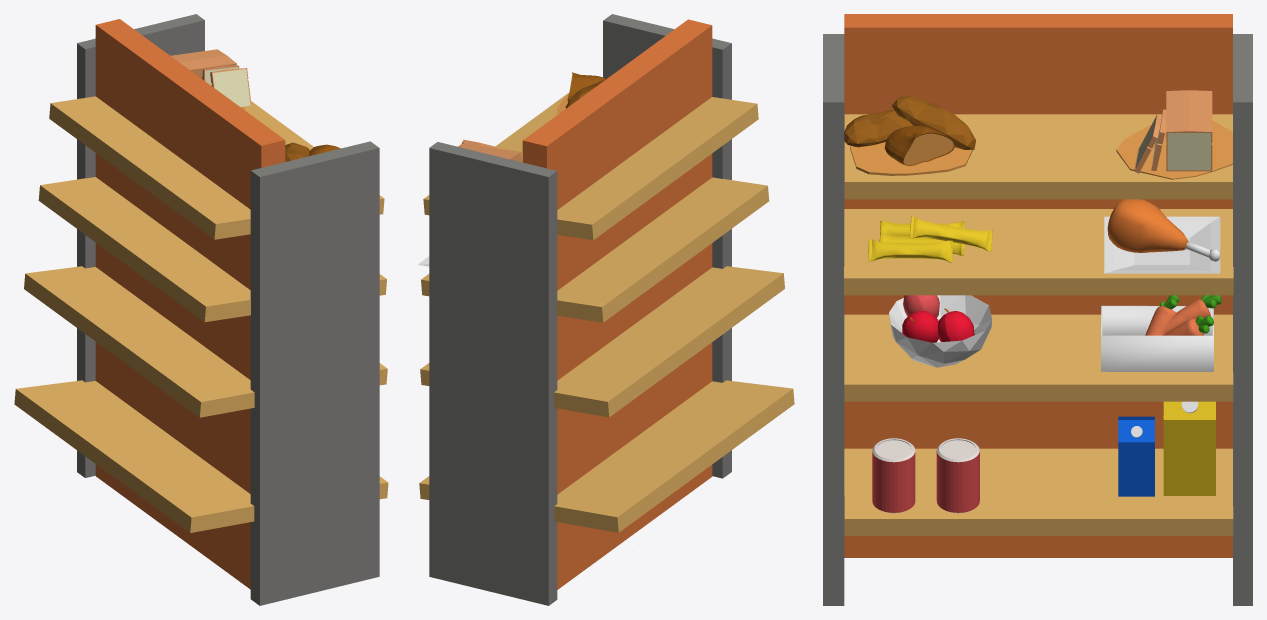
The model's file is Supermarkert shelf.fbx.
3 views of the same model, side by side, from view 1: azimuth 30°, elevation 25°; view 2: azimuth 150°, elevation 25°; view 3: azimuth 270°, elevation 25° (orthographic). The views are drawn at different scales.
Parts seen in each view (by area): view 1: Sides, Cube.007, Shelf, Shelf.001, Shelf.002, Shelf.003, Sides.001, Cube.003, Cube.002; view 2: Sides.001, Cube.007, Shelf, Shelf.001, Shelf.002, Shelf.003, Sides; view 3: Cube.007, Shelf, Shelf.001, Shelf.002, Shelf.003, Sides, Sides.001, Cube.005, Milk Carton, Plate, Cube.002, Container (+16 smaller).
Part boxes in pixels (x1,y1,x2,y2): Sides: [250, 141, 379, 605]; Cube.007: [95, 19, 285, 589]; Shelf: [14, 380, 388, 532]; Shelf.001: [24, 266, 387, 417]; Shelf.002: [38, 177, 386, 322]; Shelf.003: [49, 96, 384, 239]; Sides.001: [77, 14, 204, 477]; Cube.003: [210, 68, 251, 107]; Cube.002: [170, 49, 236, 78]; Sides.001: [429, 142, 557, 605]; Cube.007: [522, 19, 712, 589]; Shelf: [419, 380, 794, 532]; Shelf.001: [420, 266, 784, 417]; Shelf.002: [421, 177, 769, 322]; Shelf.003: [423, 92, 758, 240]; Sides: [603, 14, 731, 478]; Cube.007: [844, 14, 1232, 557]; Shelf: [844, 448, 1233, 535]; Shelf.001: [844, 314, 1233, 401]; Shelf.002: [844, 209, 1233, 295]; Shelf.003: [844, 114, 1232, 199]; Sides: [823, 34, 844, 605]; Sides.001: [1233, 34, 1252, 605]; Cube.005: [1101, 305, 1213, 371]; Milk Carton: [1163, 401, 1215, 495]; Plate: [1104, 216, 1220, 273]; Cube.002: [1166, 90, 1212, 171]; Container: [889, 295, 992, 367].
Size of what is drawn, in the model's own units: 168 by 342 by 251.
